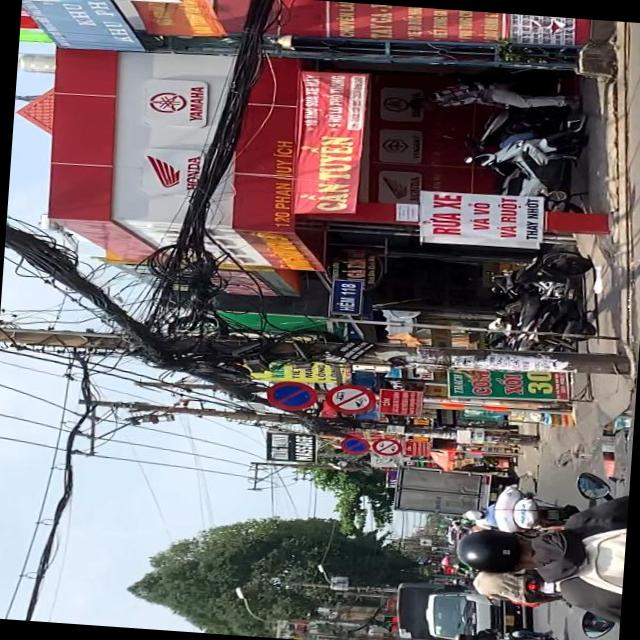P-131a: (262, 378, 318, 412)
